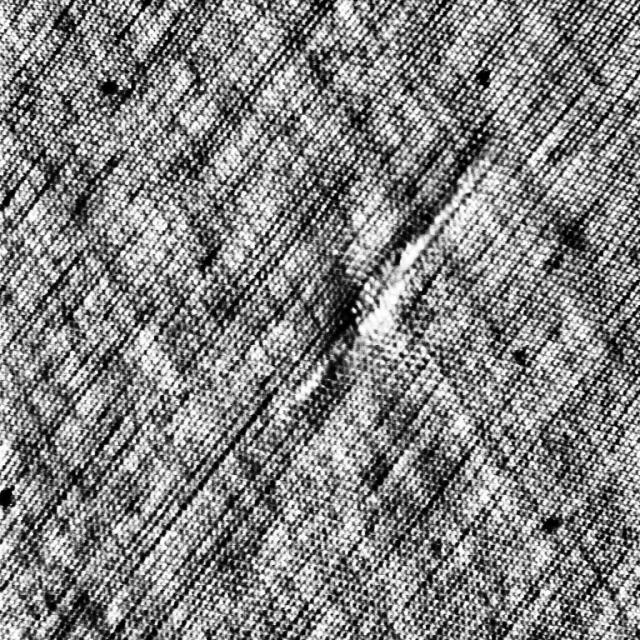Stitch: (335, 191, 456, 364)
